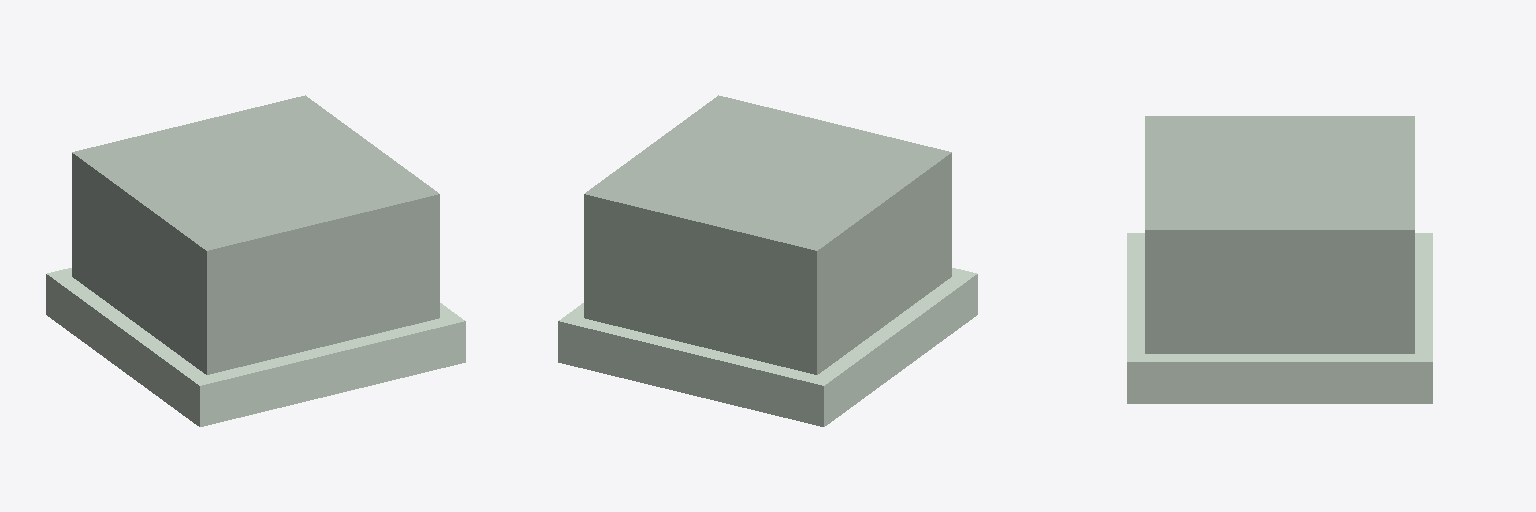
File: towerDefense_046.obj
3 views of the same model, side by side, from view 1: azimuth 30°, elevation 25°; view 2: azimuth 150°, elevation 25°; view 3: azimuth 270°, elevation 25° (orthographic).
Parts seen in each view (by area): view 1: Mesh1 Group1 Model; view 2: Mesh1 Group1 Model; view 3: Mesh1 Group1 Model.
Part boxes in pixels (bbox=[...]): Mesh1 Group1 Model: bbox=[46, 95, 465, 426]; Mesh1 Group1 Model: bbox=[558, 95, 977, 426]; Mesh1 Group1 Model: bbox=[1127, 116, 1432, 403].
Bounding box in the file's own units: 0.6717 × 0.4 × 0.6717.